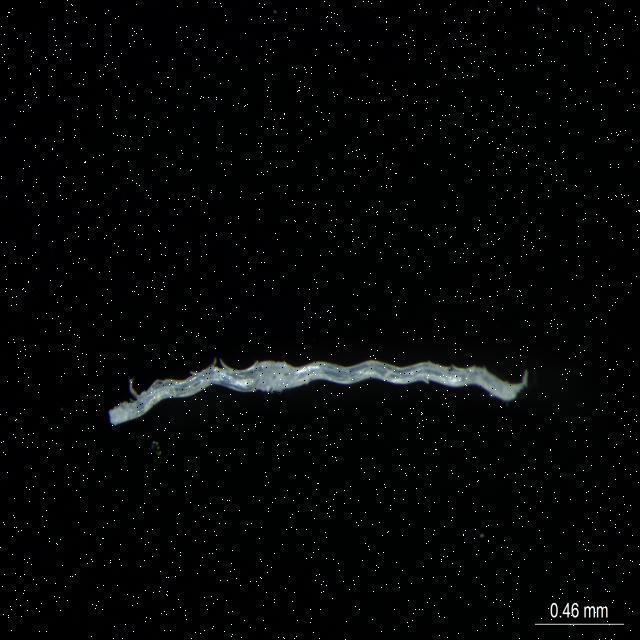Fibre: (91, 349, 545, 439)
